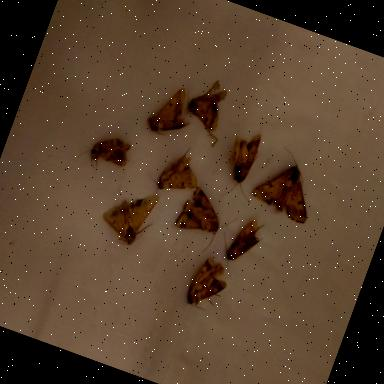abw: (246, 142, 327, 225), (168, 183, 244, 261), (214, 126, 274, 207), (96, 180, 163, 252), (142, 137, 208, 209), (210, 208, 270, 284), (176, 71, 235, 140), (144, 80, 203, 144), (182, 252, 234, 316), (75, 127, 136, 179)
